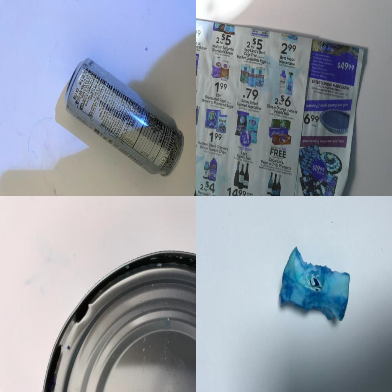metal: (43, 249, 196, 390), (64, 57, 184, 177)
paper: (196, 18, 369, 195)
trash: (278, 246, 350, 324)
